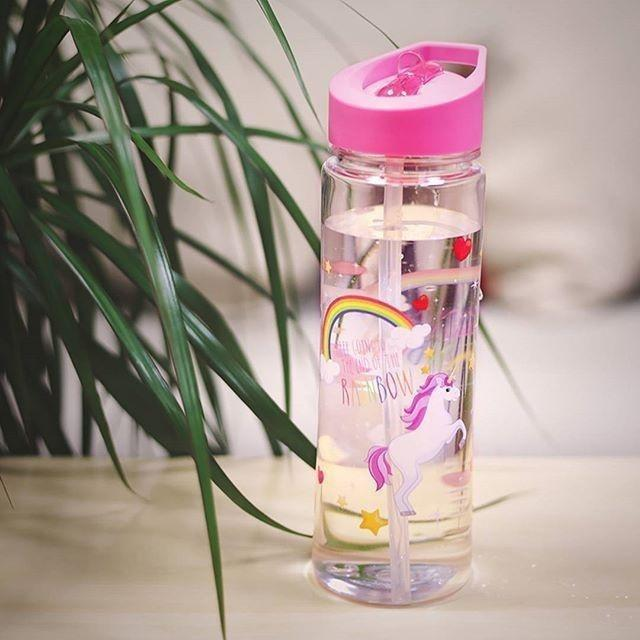gym bottle: (316, 35, 489, 606)
